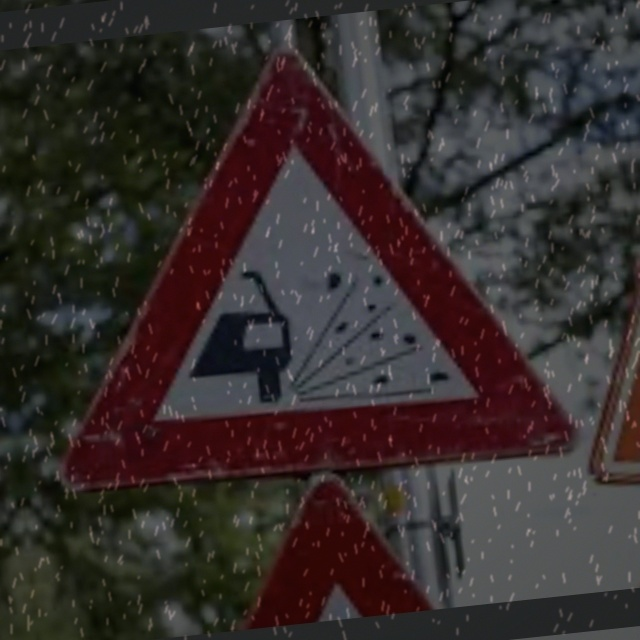Loose_Gravel: (37, 25, 579, 501)
